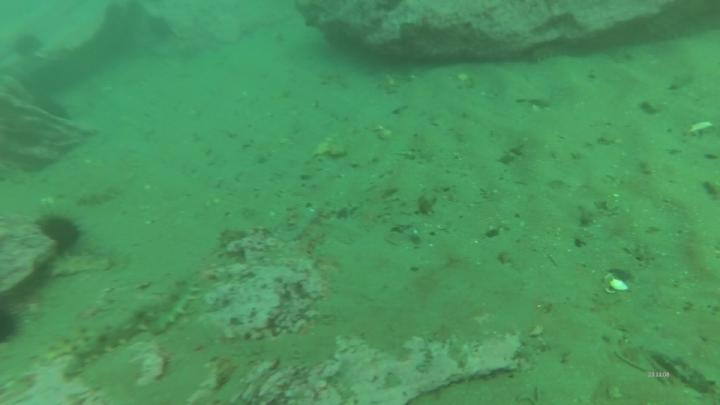echinus: (26, 207, 90, 252)
holothurian: (43, 303, 158, 373), (148, 277, 204, 334), (47, 252, 121, 280)
